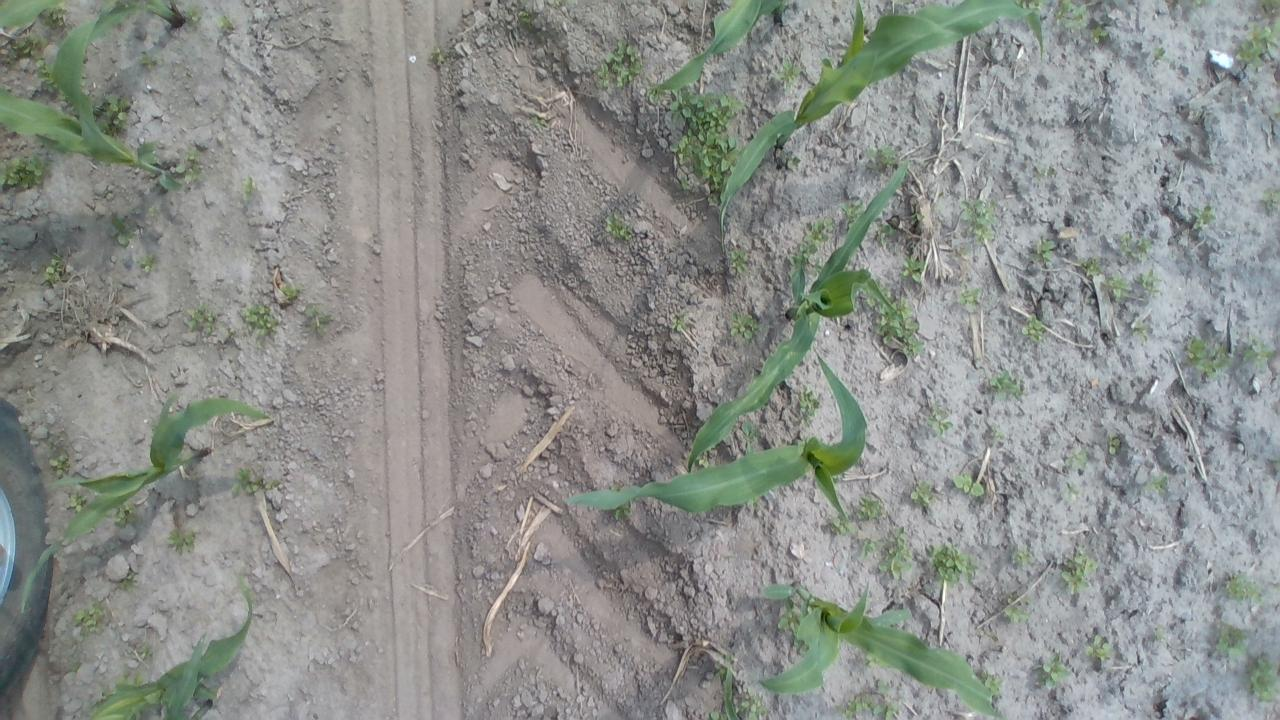Maize: (716, 0, 1046, 237), (688, 149, 910, 484), (20, 388, 274, 610), (560, 349, 872, 526), (752, 578, 1008, 716), (0, 12, 185, 193), (85, 570, 253, 720), (648, 0, 794, 96), (0, 0, 187, 48), (704, 649, 740, 720), (0, 1, 70, 28)
Weeds: (669, 89, 740, 197), (868, 281, 919, 358), (836, 679, 900, 720), (596, 38, 642, 89), (1235, 17, 1280, 69), (930, 542, 980, 586), (1184, 335, 1232, 379), (878, 526, 914, 581), (0, 153, 50, 192), (240, 302, 282, 346), (1060, 547, 1100, 593), (798, 216, 834, 267), (959, 197, 1001, 240), (1244, 654, 1280, 704), (95, 92, 131, 132), (73, 599, 109, 636), (230, 466, 276, 494), (986, 368, 1026, 400), (1225, 569, 1261, 604), (187, 300, 220, 338), (1214, 624, 1248, 660), (1241, 337, 1275, 373), (8, 31, 46, 63), (1038, 651, 1070, 689), (1003, 590, 1033, 626), (109, 214, 139, 250), (1118, 231, 1152, 262), (796, 388, 822, 428), (177, 146, 204, 184), (1054, 0, 1088, 30), (302, 304, 332, 337), (604, 211, 633, 244), (730, 310, 760, 340), (866, 143, 898, 171), (1084, 634, 1113, 663), (926, 407, 954, 437), (740, 690, 770, 718), (164, 528, 197, 553), (952, 472, 985, 497), (738, 421, 762, 455), (840, 196, 864, 230), (1104, 274, 1132, 302), (854, 496, 882, 523), (112, 500, 138, 529), (825, 511, 854, 537), (777, 61, 802, 90), (1022, 312, 1046, 342), (44, 253, 66, 284), (1190, 204, 1216, 230), (1136, 270, 1162, 296), (1028, 239, 1056, 263), (36, 5, 68, 26), (909, 480, 935, 505), (778, 609, 802, 636), (1010, 546, 1036, 570), (956, 282, 982, 306), (874, 221, 898, 247), (1144, 472, 1169, 496), (114, 569, 138, 593), (49, 451, 72, 476), (901, 257, 926, 280), (240, 176, 262, 202), (1259, 188, 1280, 215), (982, 669, 1003, 696), (1068, 445, 1089, 472), (730, 246, 750, 274), (1130, 320, 1152, 344), (36, 60, 54, 88), (1078, 258, 1104, 277), (782, 150, 804, 172), (138, 253, 161, 274), (138, 50, 162, 70), (670, 312, 692, 332), (279, 283, 303, 301), (217, 14, 237, 34), (182, 4, 200, 26), (1088, 26, 1110, 44), (428, 46, 446, 66), (70, 493, 88, 513), (860, 538, 876, 559), (646, 81, 662, 102), (1016, 0, 1052, 9), (988, 425, 1006, 443), (1034, 164, 1057, 178), (1106, 434, 1122, 454), (1259, 0, 1280, 15), (1065, 483, 1082, 501), (866, 654, 887, 668), (531, 112, 548, 129), (614, 504, 632, 520), (794, 638, 810, 654), (1152, 46, 1168, 62), (1154, 626, 1168, 643), (518, 8, 532, 24), (714, 662, 726, 678), (706, 710, 725, 720), (786, 253, 797, 270), (70, 660, 83, 674), (697, 455, 709, 470), (139, 646, 153, 658), (911, 211, 926, 221), (134, 672, 144, 686), (149, 206, 161, 217), (117, 676, 128, 686), (227, 328, 236, 340), (58, 90, 67, 102), (1274, 105, 1280, 122), (1194, 0, 1212, 5), (750, 498, 760, 507), (552, 0, 562, 5), (1276, 454, 1280, 466)
